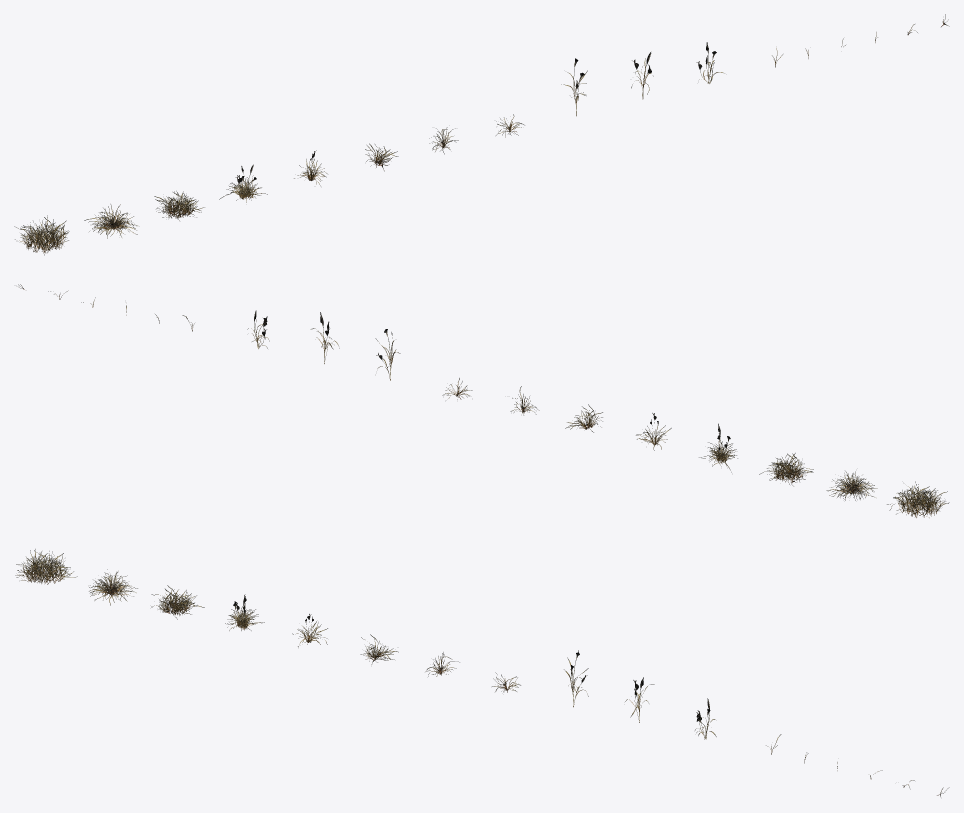
Rendered from grass_dry.glb.
3 views of the same model, one above another, from view 1: azimuth 30°, elevation 25°; view 2: azimuth 150°, elevation 25°; view 3: azimuth 330°, elevation 25° (orthographic).
Visible parts, largest first — view 1: grass_medium_01_large_a_LOD0, grass_medium_01_large_c_LOD0, grass_medium_01_large_b_LOD0; view 2: grass_medium_01_large_a_LOD0, grass_medium_01_large_c_LOD0, grass_medium_01_large_b_LOD0; view 3: grass_medium_01_large_a_LOD0, grass_medium_01_large_b_LOD0, grass_medium_01_large_c_LOD0.
Part boxes in pixels (box(x1,y1,x2,y2)): grass_medium_01_large_a_LOD0: box(14, 215, 69, 255); grass_medium_01_large_c_LOD0: box(154, 191, 204, 220); grass_medium_01_large_b_LOD0: box(84, 204, 137, 238); grass_medium_01_large_a_LOD0: box(887, 481, 949, 517); grass_medium_01_large_c_LOD0: box(759, 453, 813, 486); grass_medium_01_large_b_LOD0: box(826, 471, 877, 500); grass_medium_01_large_a_LOD0: box(15, 549, 77, 584); grass_medium_01_large_b_LOD0: box(89, 569, 137, 605); grass_medium_01_large_c_LOD0: box(151, 585, 204, 619).
Size of the model in its own units: 5.6 by 0.3426 by 0.3266.
Materials: 1 (1 with a texture image).
